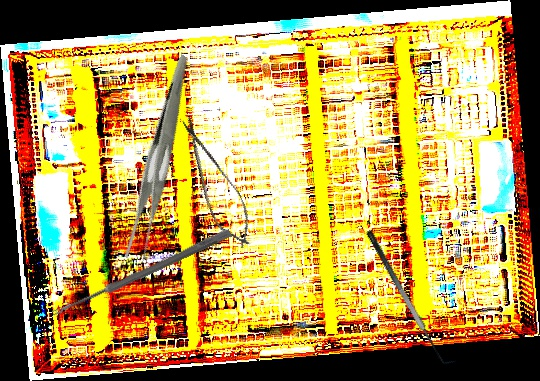Dressing Forceps: (74, 54, 248, 267)
Micro Scissor: (168, 109, 263, 257)
Spatula Surgical: (364, 223, 457, 372)
Surgical Spoon: (51, 227, 232, 319)
